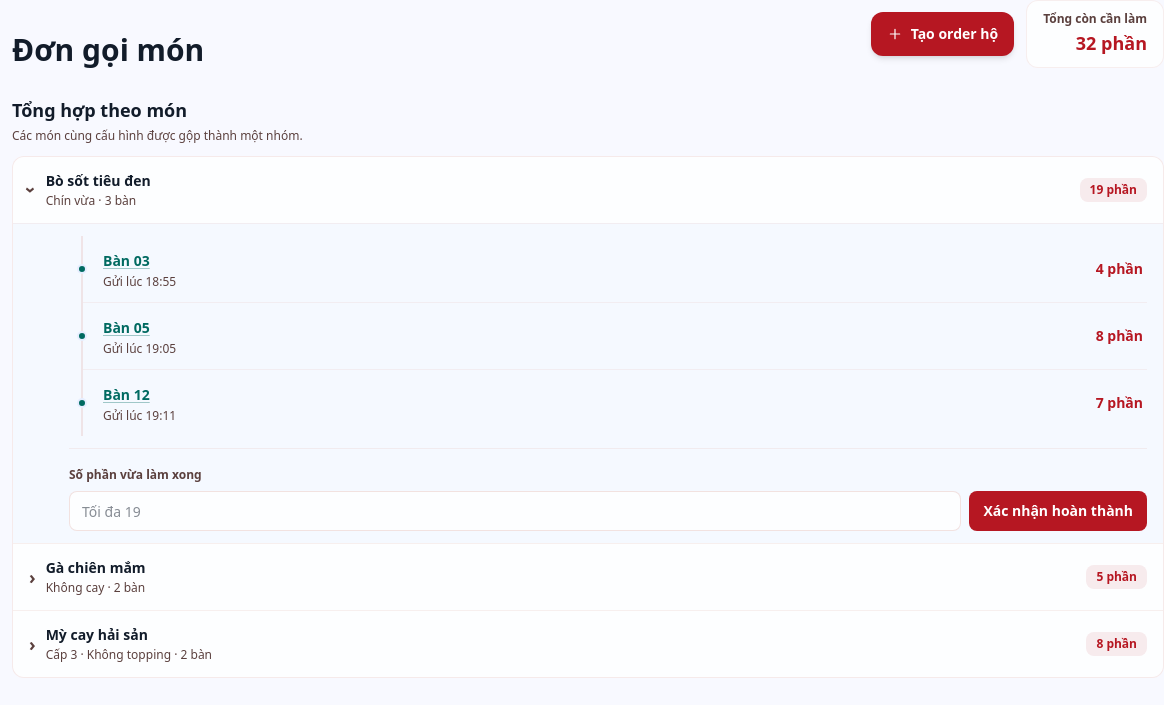
Test case: OperatorOrdersPage › aggregates matching dishes and serves earlier tables first
expect the heading "Đơn gọi món" is shown: met, box x1=12 y1=32 x2=204 y2=68
expect the heading "Gà chiên mắm" is shown: met, box x1=46 y1=558 x2=146 y2=577
Type "5" into the number field labelled "Số phần vừa làm xong" at (515, 511), box x1=69 y1=491 x2=961 y2=531
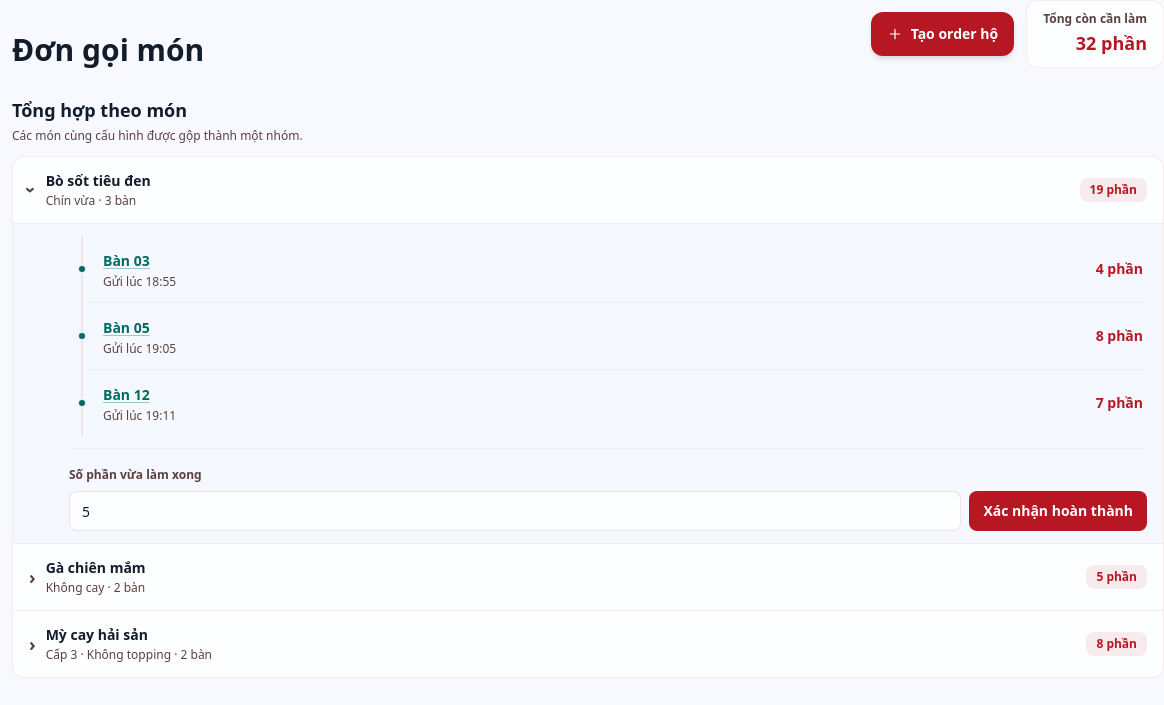
Click the button "Xác nhận hoàn thành" at (1058, 511), box x1=969 y1=491 x2=1147 y2=531
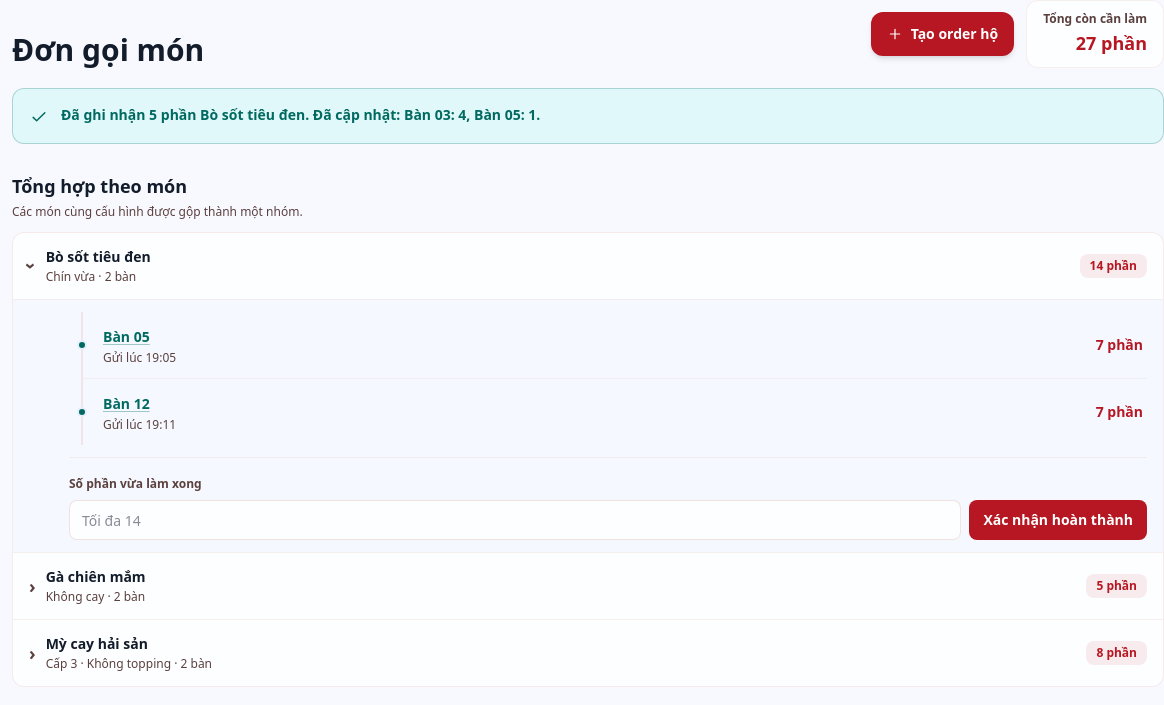
expect the message shows "Đã cập nhật: Bàn 03: 4, Bàn 05: 1": met, box x1=61 y1=105 x2=540 y2=124
expect the text "27 phần" is shown: met, box x1=1076 y1=31 x2=1147 y2=55
